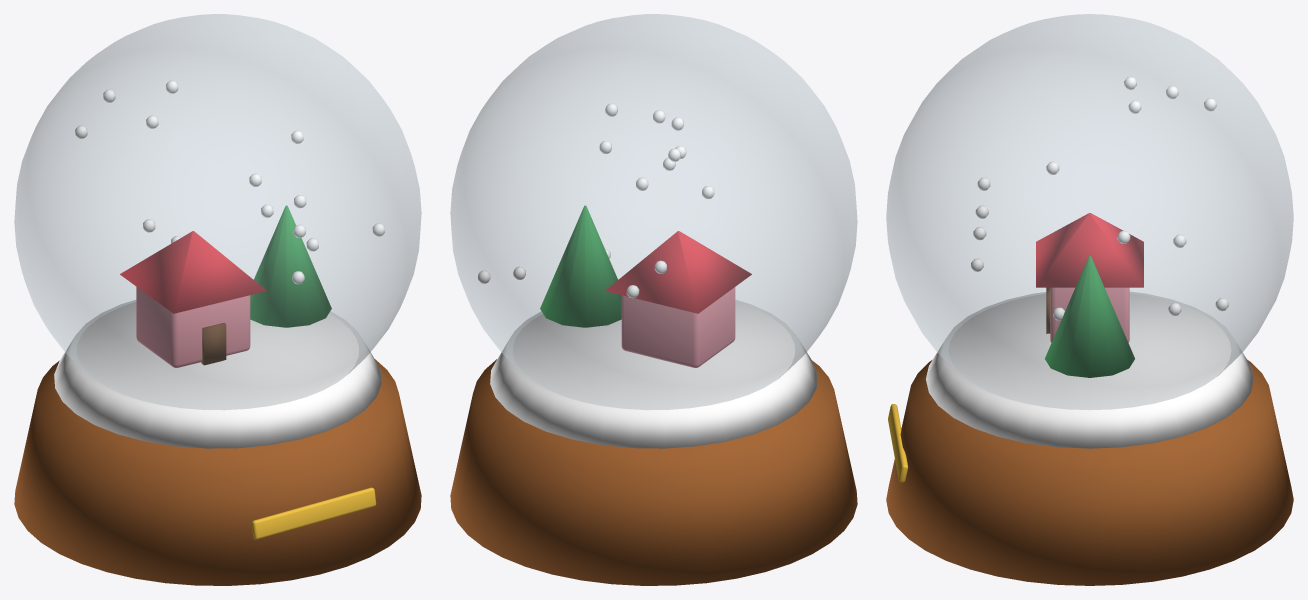
Rendered from d-globe.glb.
3 renders of one model, left to right at view 1: azimuth 30°, elevation 25°; view 2: azimuth 150°, elevation 25°; view 3: azimuth 270°, elevation 25°, orthographic.
Visible parts, largest first — view 1: d-globe; view 2: d-globe; view 3: d-globe.
Part boxes in pixels (left/top/right/bottom): d-globe: left=14, top=14, right=421, bottom=585; d-globe: left=450, top=14, right=857, bottom=585; d-globe: left=886, top=14, right=1293, bottom=585.
Size of the model in its own units: 0.1029 by 0.13 by 0.1029.
